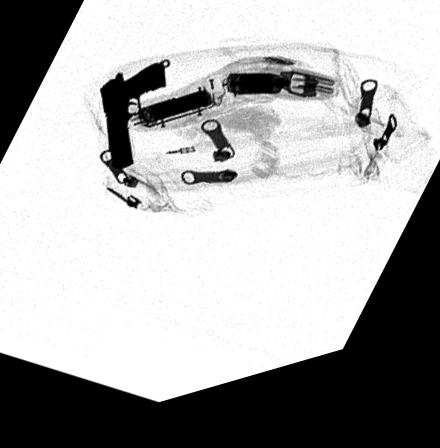Gun: (100, 69, 164, 179)
